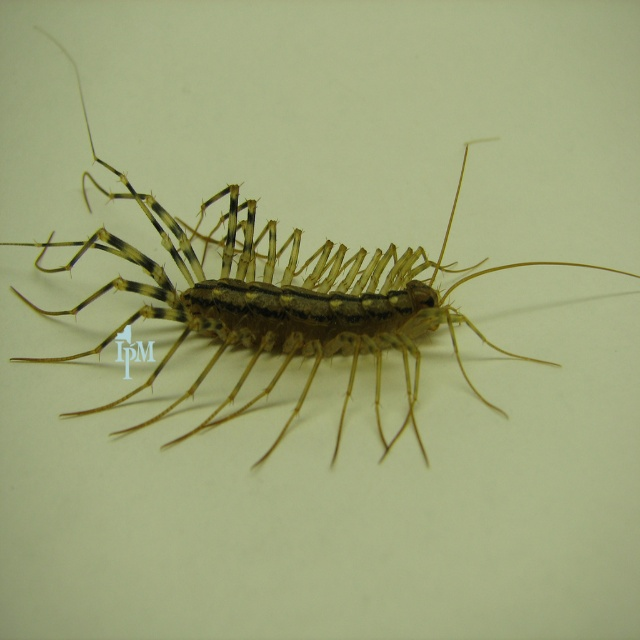Centipede: (0, 25, 640, 473)
